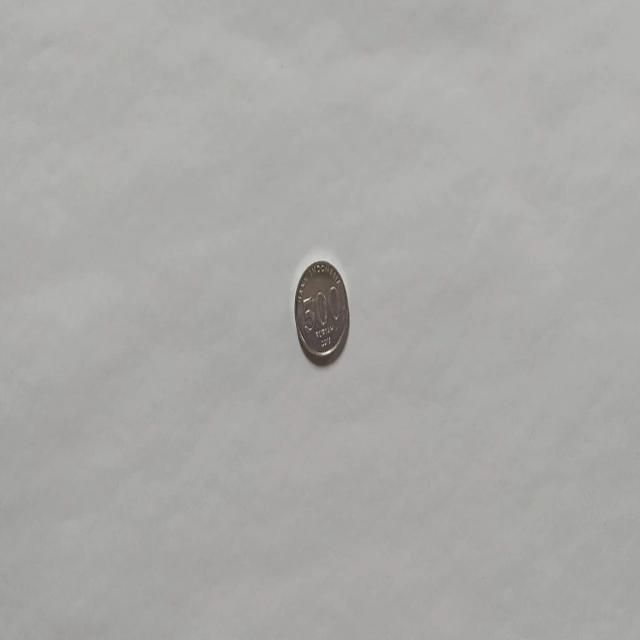lima ratus rupiah: (294, 258, 349, 364)
